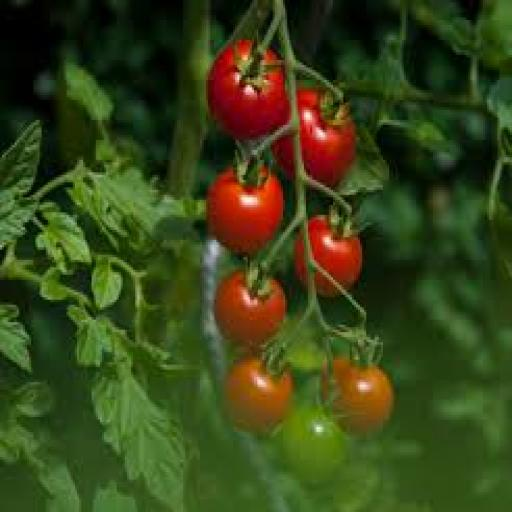tomato: (209, 40, 289, 139), (207, 168, 283, 254), (215, 270, 287, 352), (298, 90, 355, 187), (279, 408, 347, 484), (225, 358, 293, 432), (331, 358, 393, 434), (309, 215, 362, 289)
